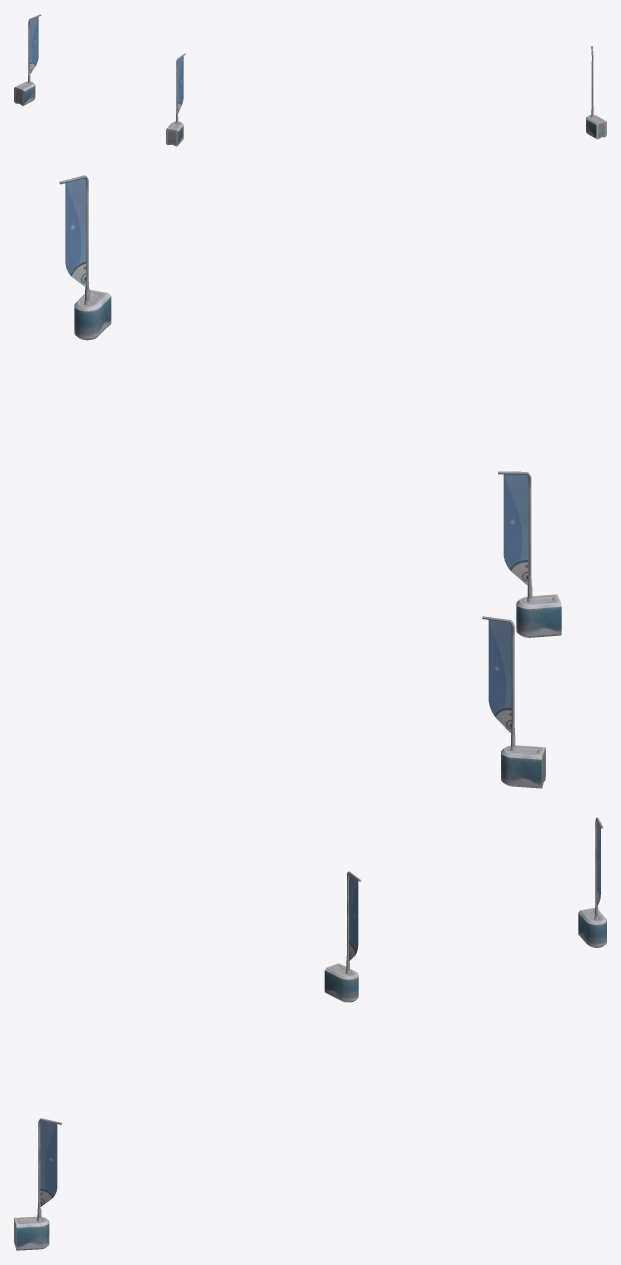
File: pref_sm_beach_winter_flag02_lv3.fbx
3 renders of one model, top to bottom at view 1: azimuth 30°, elevation 25°; view 2: azimuth 150°, elevation 25°; view 3: azimuth 270°, elevation 25°, orthographic. The views are drawn at different scales.
Visible parts, largest first — view 1: pref_sm_beach_winter_flag02_lv3; view 2: pref_sm_beach_winter_flag02_lv3; view 3: pref_sm_beach_winter_flag02_lv3.
Part boxes in pixels (x1=…): pref_sm_beach_winter_flag02_lv3: x1=14, y1=14, x2=606, y2=146; pref_sm_beach_winter_flag02_lv3: x1=59, y1=175, x2=561, y2=788; pref_sm_beach_winter_flag02_lv3: x1=14, y1=817, x2=606, y2=1250.
Bounding box in the file's own units: 37.01 × 6.97 × 29.15.
